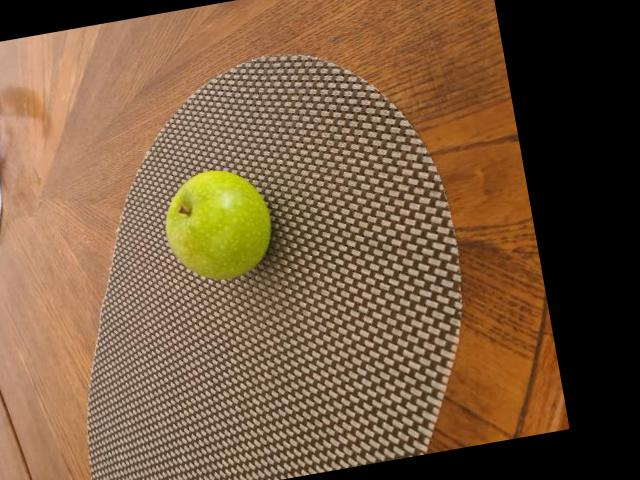apple: (158, 163, 278, 282)
